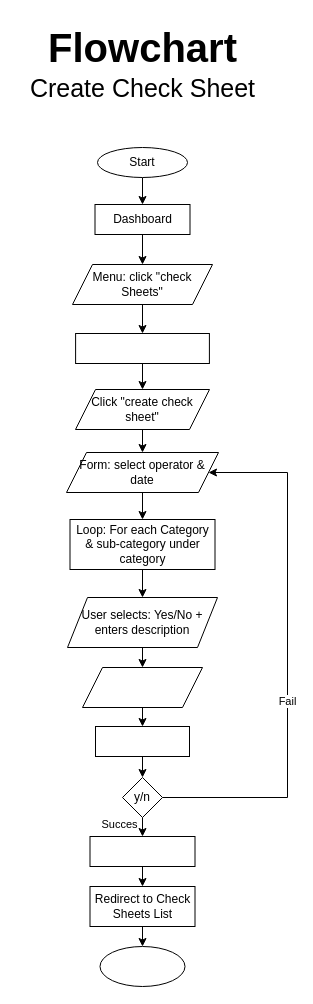
Image size: 313x1004. Some labels were removed from this diagram. Each missing label, with the centre of its shape:
[Click "Save"]: the point at 142,687
Check Sheet list page: the point at 142,348
End: the point at 142,966
Save to Database: the point at 142,851
Validate Input: the point at 142,741
